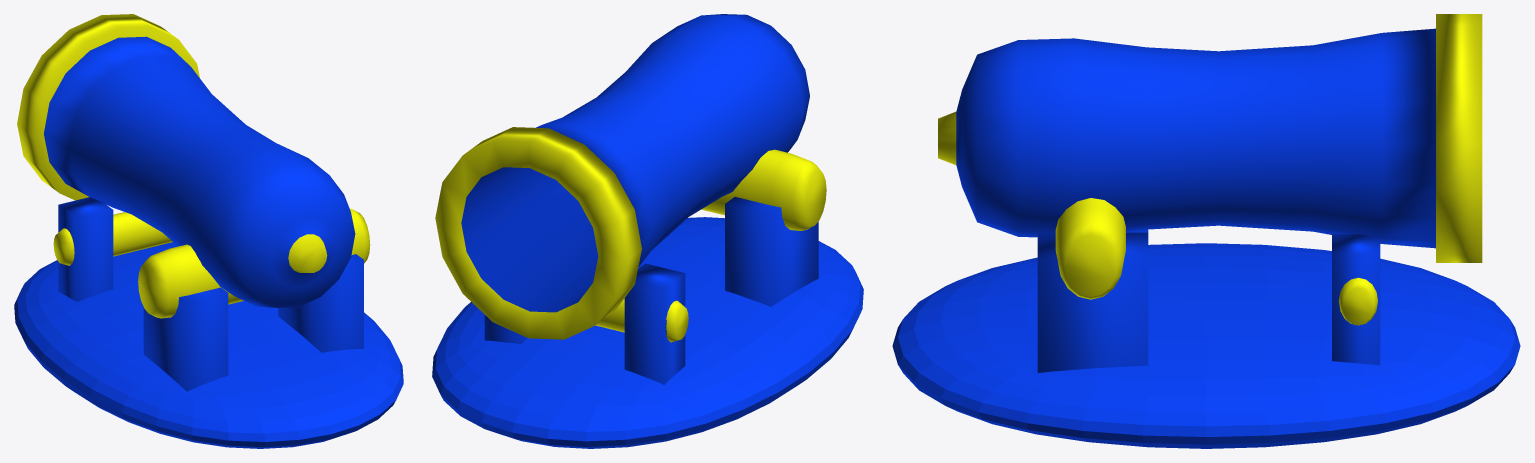
File: Canon.fbx
3 views of the same model, side by side, from view 1: azimuth 30°, elevation 25°; view 2: azimuth 150°, elevation 25°; view 3: azimuth 270°, elevation 25° (orthographic). The views are drawn at different scales.
Visible parts, largest first — view 1: Cube; view 2: Cube; view 3: Cube.
Boxes of the visible parts, box(x1,y1,x2,y2) form: Cube: box(14, 14, 403, 448); Cube: box(432, 14, 863, 448); Cube: box(892, 14, 1520, 448).
Size of the model in its own units: 231 by 216 by 337.
